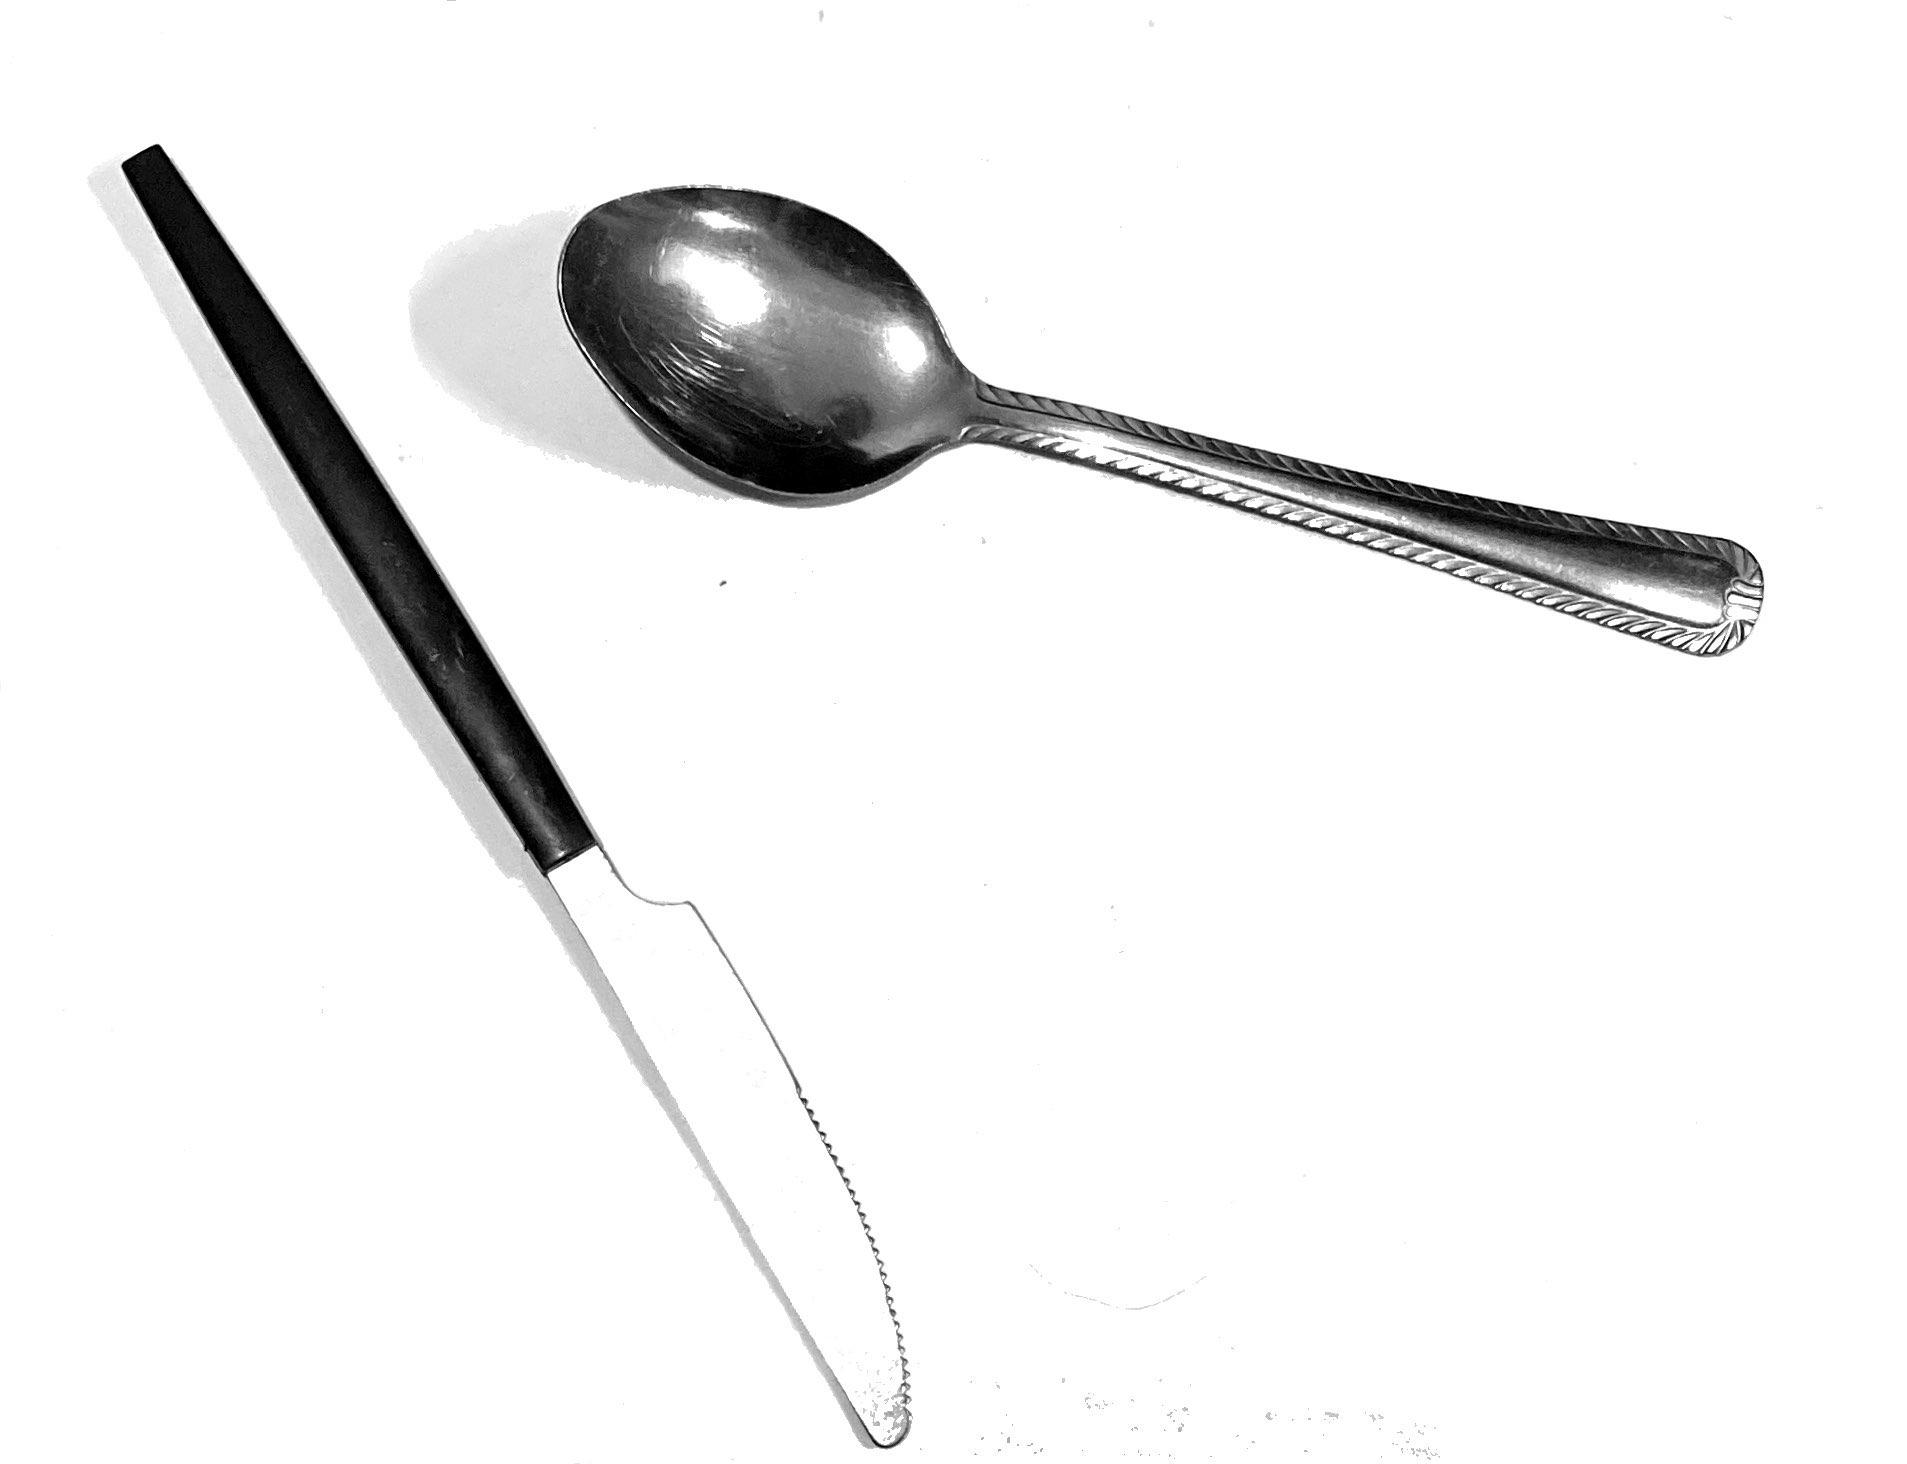Knife: (102, 128, 960, 1464)
Spoon: (554, 154, 1832, 677)
